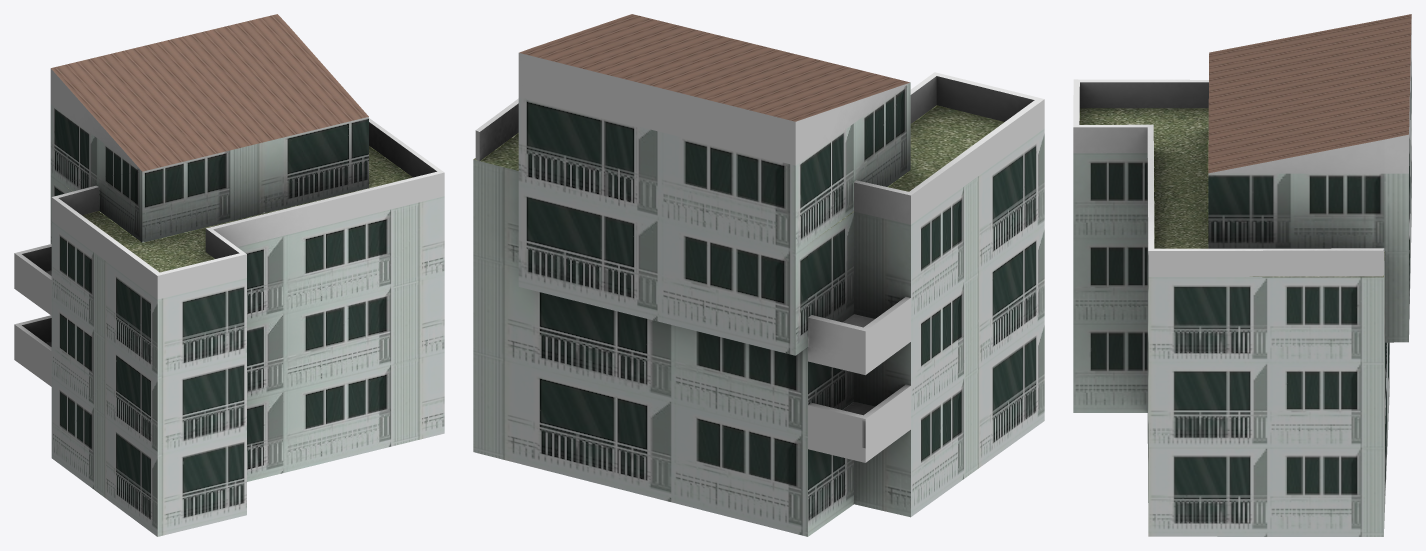
3 views of the same model, side by side, from view 1: azimuth 30°, elevation 25°; view 2: azimuth 150°, elevation 25°; view 3: azimuth 270°, elevation 25° (orthographic). The views are drawn at different scales.
Parts seen in each view (by area): view 1: MainBuilding; view 2: MainBuilding; view 3: MainBuilding.
Part boxes in pixels (bbox=[...]): MainBuilding: bbox=[14, 14, 444, 536]; MainBuilding: bbox=[473, 14, 1044, 536]; MainBuilding: bbox=[1073, 14, 1411, 536].
Bounding box in the file's own units: 1.42 × 1.45 × 1.18.
1 material, 1 textured.
